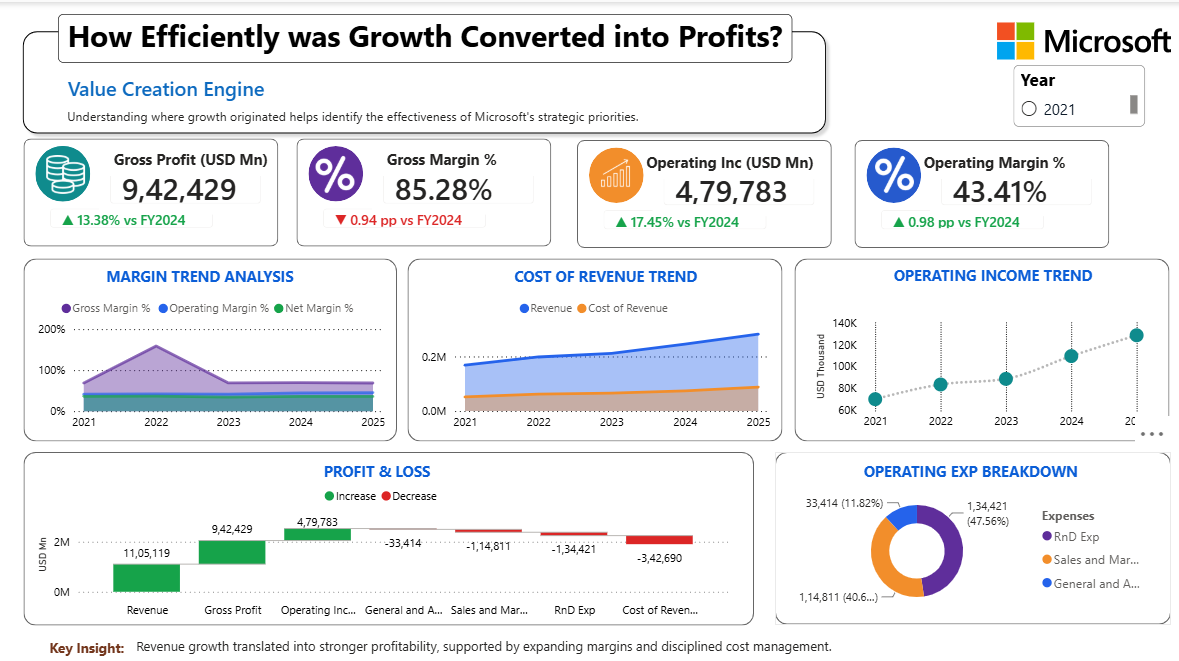

The dashboard page shown, as its layout file describes it:
{"tool":"powerbi","page":{"name":"Value Conversion Engine","canvas":[1280,720],"ordinal":2},"visuals":[{"type":"group","id":"g1","title":"Group 8","box":[20,12.7,881.7,135.6],"z":0},{"type":"shape","box":[20,23.3,881.7,125],"z":0,"group":"g1"},{"type":"shape","box":[442,276.9,404.8,197.5],"z":0,"group":"g10"},{"type":"textbox","box":[65.6,12.7,793,52.6],"z":1000,"group":"g1"},{"type":"image","box":[1079,20,188,45],"z":1000},{"type":"areaChart","fields":{"Category":["Income Statement.Year"],"Y":["Sum(Income Statement.Revenue)","Sum(Income Statement.Cost of Revenue)"]},"box":[451.1,311.1,386.6,160.4],"z":1000,"group":"g10"},{"type":"listSlicer","fields":{"Values":["Income Statement.Year"]},"box":[1096.5,68.4,142.1,66.7],"z":2000},{"type":"shape","box":[27.5,147.3,275,116.6],"z":2000,"group":"g2"},{"type":"shape","box":[322.2,147.3,275,116.6],"z":2000,"group":"g3"},{"type":"shape","box":[625,149,275,116.6],"z":2000,"group":"g4"},{"type":"shape","box":[924.6,149,275,116.6],"z":2000,"group":"g5"},{"type":"textbox","box":[552.7,279.9,216.8,35.6],"z":2000,"group":"g10"},{"type":"group","id":"g2","title":"Group 2","box":[27.5,147.3,275,116.6],"z":3000},{"type":"shape","box":[27.5,276.9,403.2,197.5],"z":3000,"group":"g11"},{"type":"textbox","box":[63.7,73.1,236.4,38.9],"z":4000,"group":"g1"},{"type":"group","id":"g3","title":"Group 2","box":[322.2,147.3,275,116.6],"z":4000},{"type":"shape","box":[27.5,485.8,788.6,187.2],"z":4000,"group":"g13"},{"type":"textbox","box":[70.2,108.7,633.1,30.8],"z":5000,"group":"g1"},{"type":"group","id":"g4","title":"Group 2","box":[625,149,275,116.6],"z":5000},{"type":"cardVisual","fields":{"Data":["Income Statement.Gross Profit Growth %"]},"box":[38.8,205.6,210.5,55.1],"z":5250,"group":"g2"},{"type":"cardVisual","fields":{"Data":["KPI's.Gross Margin Change (pp)"]},"box":[333.5,205.6,210.5,55.1],"z":5250,"group":"g3"},{"type":"cardVisual","fields":{"Data":["Income Statement.Operating Income Growth Indicator"]},"box":[636.3,207.3,210.5,55.1],"z":5250,"group":"g4"},{"type":"cardVisual","fields":{"Data":["KPI's.Operating Margin Change (pp)"]},"box":[936.6,207.3,210.5,55.1],"z":5250,"group":"g5"},{"type":"cardVisual","fields":{"Data":["Sum(Income Statement.Gross Profit)"]},"box":[103.6,163.5,197.5,71],"z":5625,"group":"g2"},{"type":"cardVisual","fields":{"Data":["KPI's.Gross Margin % Measure"]},"box":[398.3,163.5,197.5,71],"z":5625,"group":"g3"},{"type":"cardVisual","fields":{"Data":["Sum(Income Statement.Operating Income)"]},"box":[701.1,165.2,197.5,71],"z":5625,"group":"g4"},{"type":"cardVisual","fields":{"Data":["KPI's.Operating Margin % Measure"]},"box":[1000.7,165.2,197.5,71],"z":5625,"group":"g5"},{"type":"textbox","box":[119.8,153.8,181.4,34],"z":6000,"group":"g2"},{"type":"textbox","box":[414.5,153.8,181.4,34],"z":6000,"group":"g3"},{"type":"textbox","box":[694.6,157.1,199.2,34],"z":6000,"group":"g4"},{"type":"textbox","box":[994.2,157.1,199.2,34],"z":6000,"group":"g5"},{"type":"image","box":[639.6,163.5,53.4,42.1],"z":6000},{"type":"shape","box":[40.5,155.4,59,59.9],"z":6250,"group":"g6"},{"type":"shape","box":[335.2,155.4,59,59.9],"z":6250,"group":"g7"},{"type":"shape","box":[638,157.1,59,59.9],"z":6250,"group":"g8"},{"type":"shape","box":[937.6,157.1,59,59.9],"z":6250,"group":"g9"},{"type":"group","id":"g5","title":"Group 2","box":[924.6,149,275,116.6],"z":7000},{"type":"image","box":[336.5,164.4,53.4,42.1],"z":7500,"group":"g7"},{"type":"image","box":[44.6,165.2,54.9,41.8],"z":7500,"group":"g6"},{"type":"group","id":"g6","title":"Group 1","box":[40.5,155.4,58.3,59.9],"z":7501,"group":"g2"},{"type":"group","id":"g7","title":"Group 1","box":[335.2,155.4,59,59.9],"z":7501,"group":"g3"},{"type":"group","id":"g8","title":"Group 1","box":[638,157.1,59,59.9],"z":7501,"group":"g4"},{"type":"group","id":"g9","title":"Group 1","box":[937.6,157.1,59,59.9],"z":7501,"group":"g5"},{"type":"image","box":[940.8,165.2,53.4,42.1],"z":8000},{"type":"group","id":"g10","title":"Group 3","box":[442,276.9,404.8,197.5],"z":9000},{"type":"group","id":"g11","title":"Group 4","box":[27.5,276.9,403.2,197.5],"z":10000},{"type":"shape","box":[859.8,276.9,404.8,197.5],"z":10000,"group":"g12"},{"type":"areaChart","fields":{"Category":["Income Statement.Year"],"Y":["KPI's.Gross Margin % Measure","KPI's.Operating Margin % Measure","KPI's.Net Margin % Measure"]},"box":[37.3,311.1,385.2,160.5],"z":10000,"group":"g11"},{"type":"group","id":"g12","title":"Group 5","box":[859.8,276.9,404.8,197.5],"z":11000},{"type":"textbox","box":[112.1,280.5,235.6,33],"z":11000,"group":"g11"},{"type":"group","id":"g13","title":"Group 6","box":[27.5,485.8,788.6,187.2],"z":12000},{"type":"lineChart","fields":{"Category":["Income Statement.Year"],"Y":["Sum(Income Statement.Operating Income)"]},"box":[877.6,331.9,369.2,138.1],"z":13000,"group":"g12"},{"type":"group","id":"g14","title":"Group 7","box":[838.8,485.8,427.5,186.2],"z":13000},{"type":"textbox","box":[961.8,278.4,231.5,35.6],"z":14000,"group":"g12"},{"type":"textbox","box":[50.2,682,100.4,30.8],"z":14000},{"type":"waterfallChart","fields":{"Category":["P&L Waterfall Items.Item"],"Y":["P&L Waterfall Items.P&L Waterfall Value"]},"box":[37.2,513,756.2,158],"z":15000,"group":"g13"},{"type":"textbox","box":[144.1,680,856.6,35.6],"z":15000},{"type":"textbox","box":[347.3,491,150.6,34],"z":16000,"group":"g13"},{"type":"shape","box":[838.8,485.8,427.5,186.2],"z":17000,"group":"g14"},{"type":"donutChart","fields":{"Category":["Expense Breakdown Items.Item"],"Y":["Expense Breakdown Items.Expense Breakdown Value"]},"box":[851.7,523,396.9,138.5],"z":18000,"group":"g14"},{"type":"textbox","box":[928.8,490.3,281.2,35.8],"z":19000,"group":"g14"}]}

Visuals, with their boxes in screenshot pixels (x1, y1, x2, y2), scaled from the page's 1280x720 canvas onto the 1179x661 screenshot:
"Group 8" group: bbox=[18, 12, 831, 136]
shape: bbox=[18, 21, 831, 136]
shape: bbox=[407, 254, 780, 436]
textbox: bbox=[60, 12, 791, 60]
image: bbox=[994, 18, 1167, 60]
areaChart - Income Statement.Year x Sum(Income Statement.Revenue): bbox=[416, 286, 772, 433]
listSlicer - Income Statement.Year: bbox=[1010, 63, 1141, 124]
shape: bbox=[25, 135, 279, 242]
shape: bbox=[297, 135, 550, 242]
shape: bbox=[576, 137, 829, 244]
shape: bbox=[852, 137, 1105, 244]
textbox: bbox=[509, 257, 709, 290]
"Group 2" group: bbox=[25, 135, 279, 242]
shape: bbox=[25, 254, 397, 436]
textbox: bbox=[59, 67, 276, 103]
"Group 2" group: bbox=[297, 135, 550, 242]
shape: bbox=[25, 446, 752, 618]
textbox: bbox=[65, 100, 648, 128]
"Group 2" group: bbox=[576, 137, 829, 244]
cardVisual - Income Statement.Gross Profit Growth %: bbox=[36, 189, 230, 239]
cardVisual - KPI's.Gross Margin Change (pp): bbox=[307, 189, 501, 239]
cardVisual - Income Statement.Operating Income Growth Indicator: bbox=[586, 190, 780, 241]
cardVisual - KPI's.Operating Margin Change (pp): bbox=[863, 190, 1057, 241]
cardVisual - Sum(Income Statement.Gross Profit): bbox=[95, 150, 277, 215]
cardVisual - KPI's.Gross Margin % Measure: bbox=[367, 150, 549, 215]
cardVisual - Sum(Income Statement.Operating Income): bbox=[646, 152, 828, 217]
cardVisual - KPI's.Operating Margin % Measure: bbox=[922, 152, 1104, 217]
textbox: bbox=[110, 141, 277, 172]
textbox: bbox=[382, 141, 549, 172]
textbox: bbox=[640, 144, 823, 175]
textbox: bbox=[916, 144, 1099, 175]
image: bbox=[589, 150, 638, 189]
shape: bbox=[37, 143, 92, 198]
shape: bbox=[309, 143, 363, 198]
shape: bbox=[588, 144, 642, 199]
shape: bbox=[864, 144, 918, 199]
"Group 2" group: bbox=[852, 137, 1105, 244]
image: bbox=[310, 151, 359, 190]
image: bbox=[41, 152, 92, 190]
"Group 1" group: bbox=[37, 143, 91, 198]
"Group 1" group: bbox=[309, 143, 363, 198]
"Group 1" group: bbox=[588, 144, 642, 199]
"Group 1" group: bbox=[864, 144, 918, 199]
image: bbox=[867, 152, 916, 190]
"Group 3" group: bbox=[407, 254, 780, 436]
"Group 4" group: bbox=[25, 254, 397, 436]
shape: bbox=[792, 254, 1165, 436]
areaChart - Income Statement.Year x KPI's.Gross Margin % Measure: bbox=[34, 286, 389, 433]
"Group 5" group: bbox=[792, 254, 1165, 436]
textbox: bbox=[103, 258, 320, 288]
"Group 6" group: bbox=[25, 446, 752, 618]
lineChart - Income Statement.Year x Sum(Income Statement.Operating Income): bbox=[808, 305, 1148, 431]
"Group 7" group: bbox=[773, 446, 1166, 617]
textbox: bbox=[886, 256, 1099, 288]
textbox: bbox=[46, 626, 139, 654]
waterfallChart - P&L Waterfall Items.Item x P&L Waterfall Items.P&L Waterfall Value: bbox=[34, 471, 731, 616]
textbox: bbox=[133, 624, 922, 657]
textbox: bbox=[320, 451, 459, 482]
shape: bbox=[773, 446, 1166, 617]
donutChart - Expense Breakdown Items.Item x Expense Breakdown Items.Expense Breakdown Value: bbox=[784, 480, 1150, 607]
textbox: bbox=[856, 450, 1115, 483]
